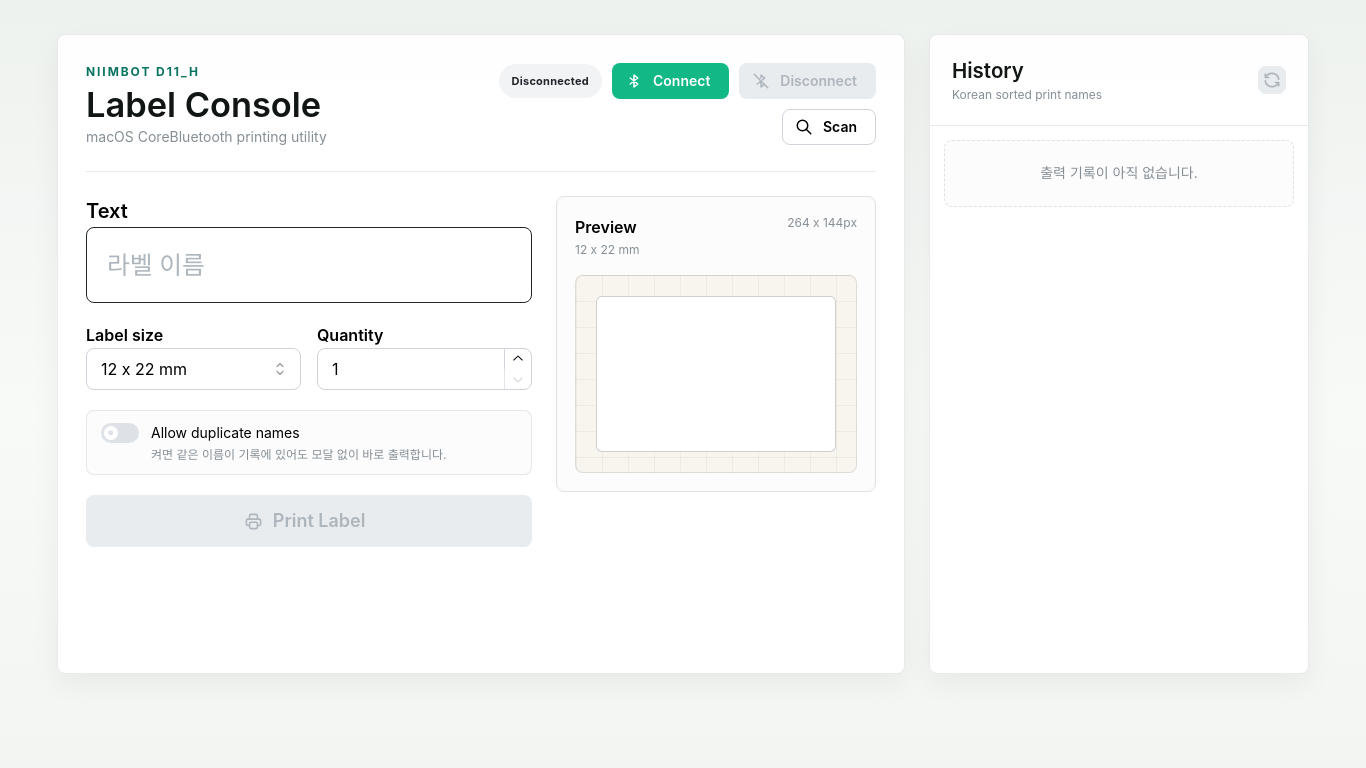
Test: App › does not enter loading state when printing while disconnected
Type "문석민" into the field with placeholder "라벨 이름" at (309, 265), box [86, 227, 532, 303]
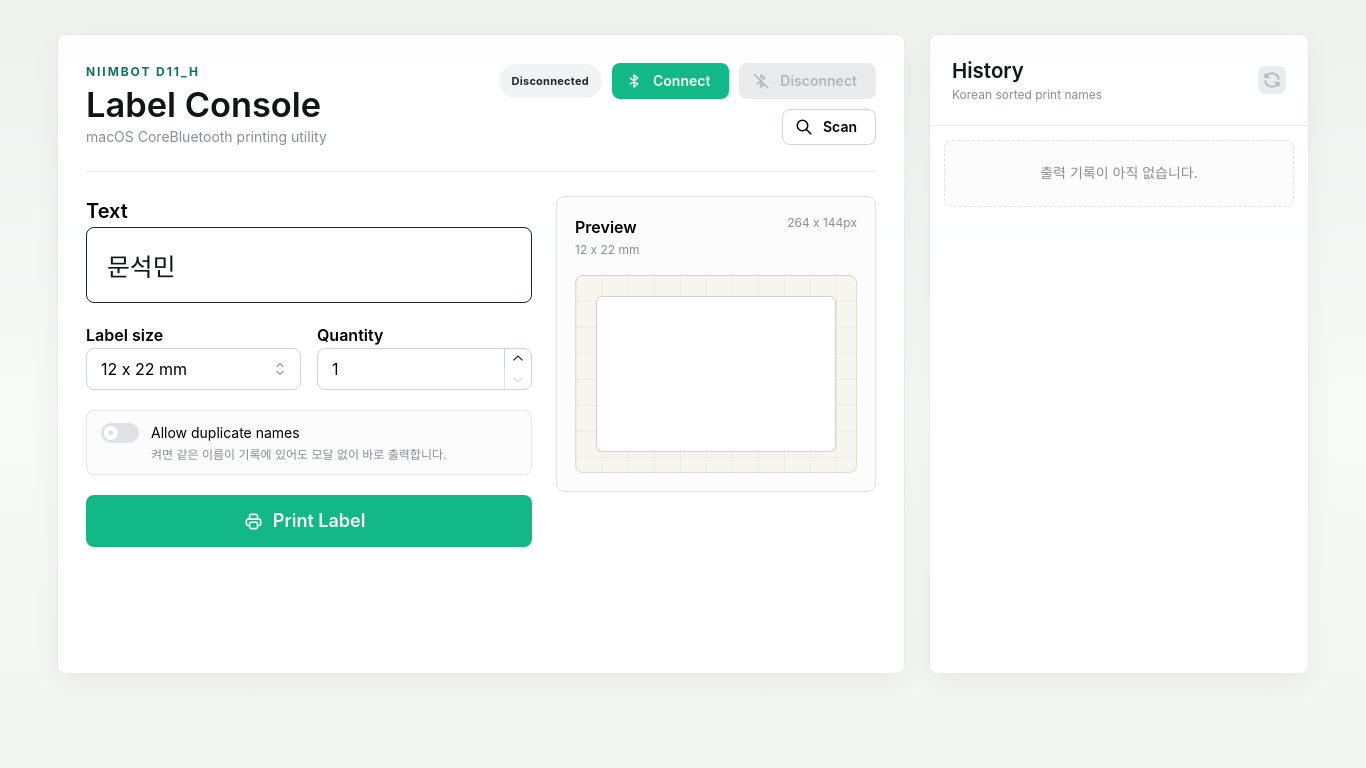
Click the button "Print Label" at (309, 521), box [86, 495, 532, 547]
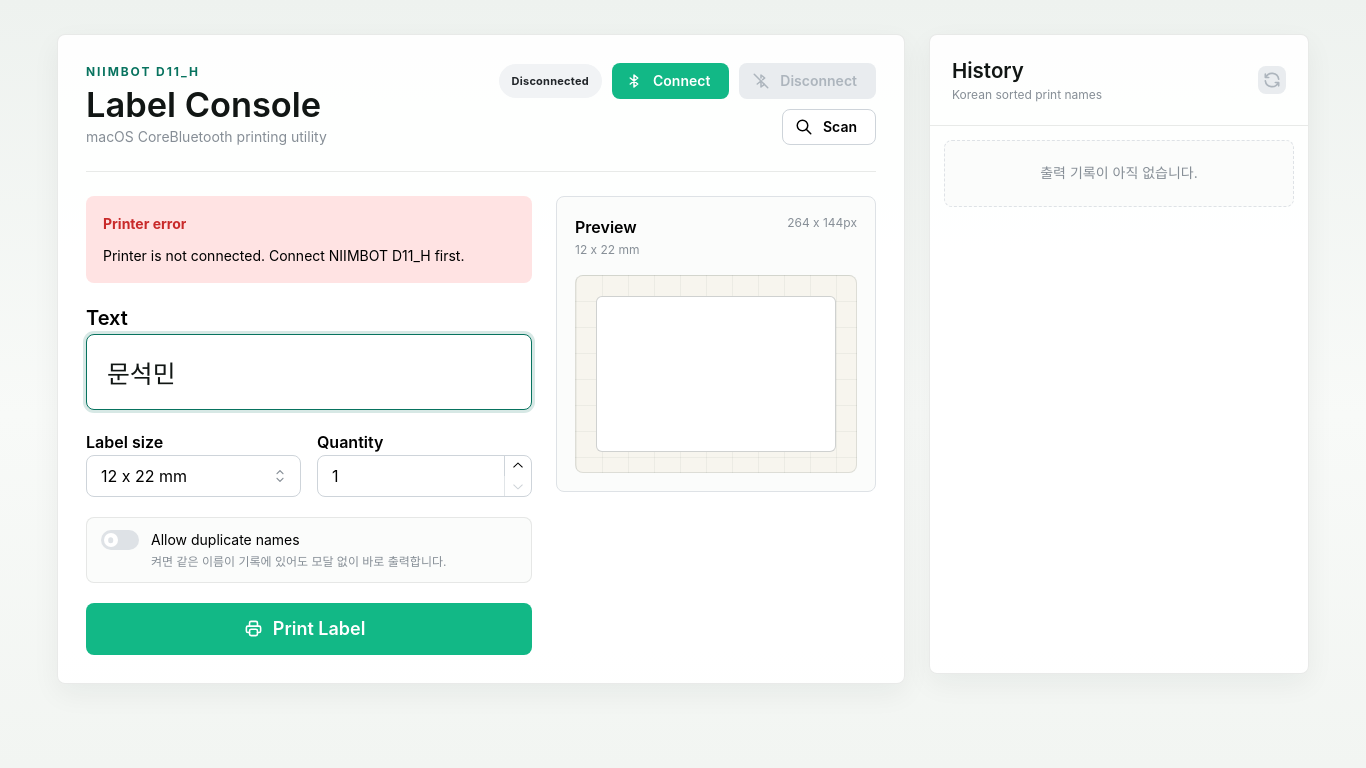
expect the text "Printer is not connected. Connect NIIMBOT D11_H first." is shown: met, box [103, 245, 515, 266]
